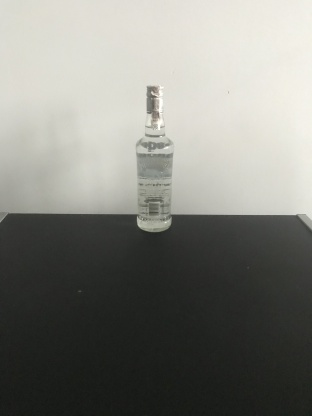nakretka: (144, 83, 164, 114)
